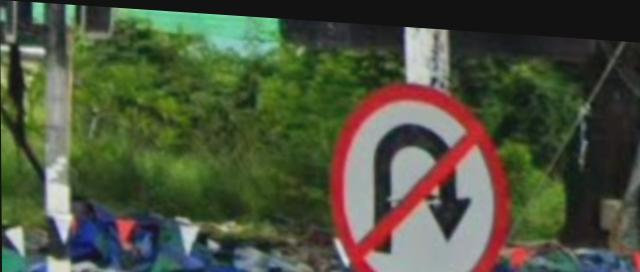not_u_turn_right: (326, 73, 512, 272)
